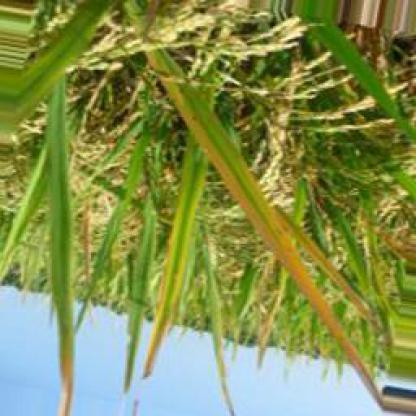Tungro: (173, 86, 386, 405), (138, 148, 217, 385), (44, 334, 86, 416)
